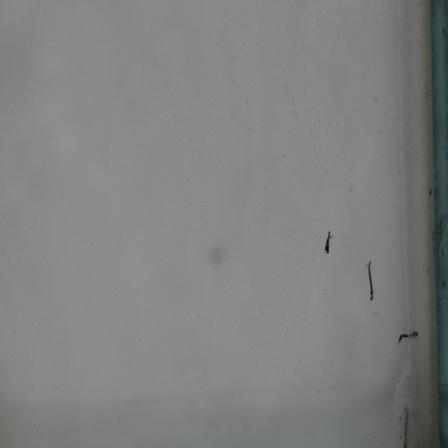Jentik-Nyamuk: (363, 257, 379, 305), (394, 328, 422, 345), (322, 228, 333, 257)
